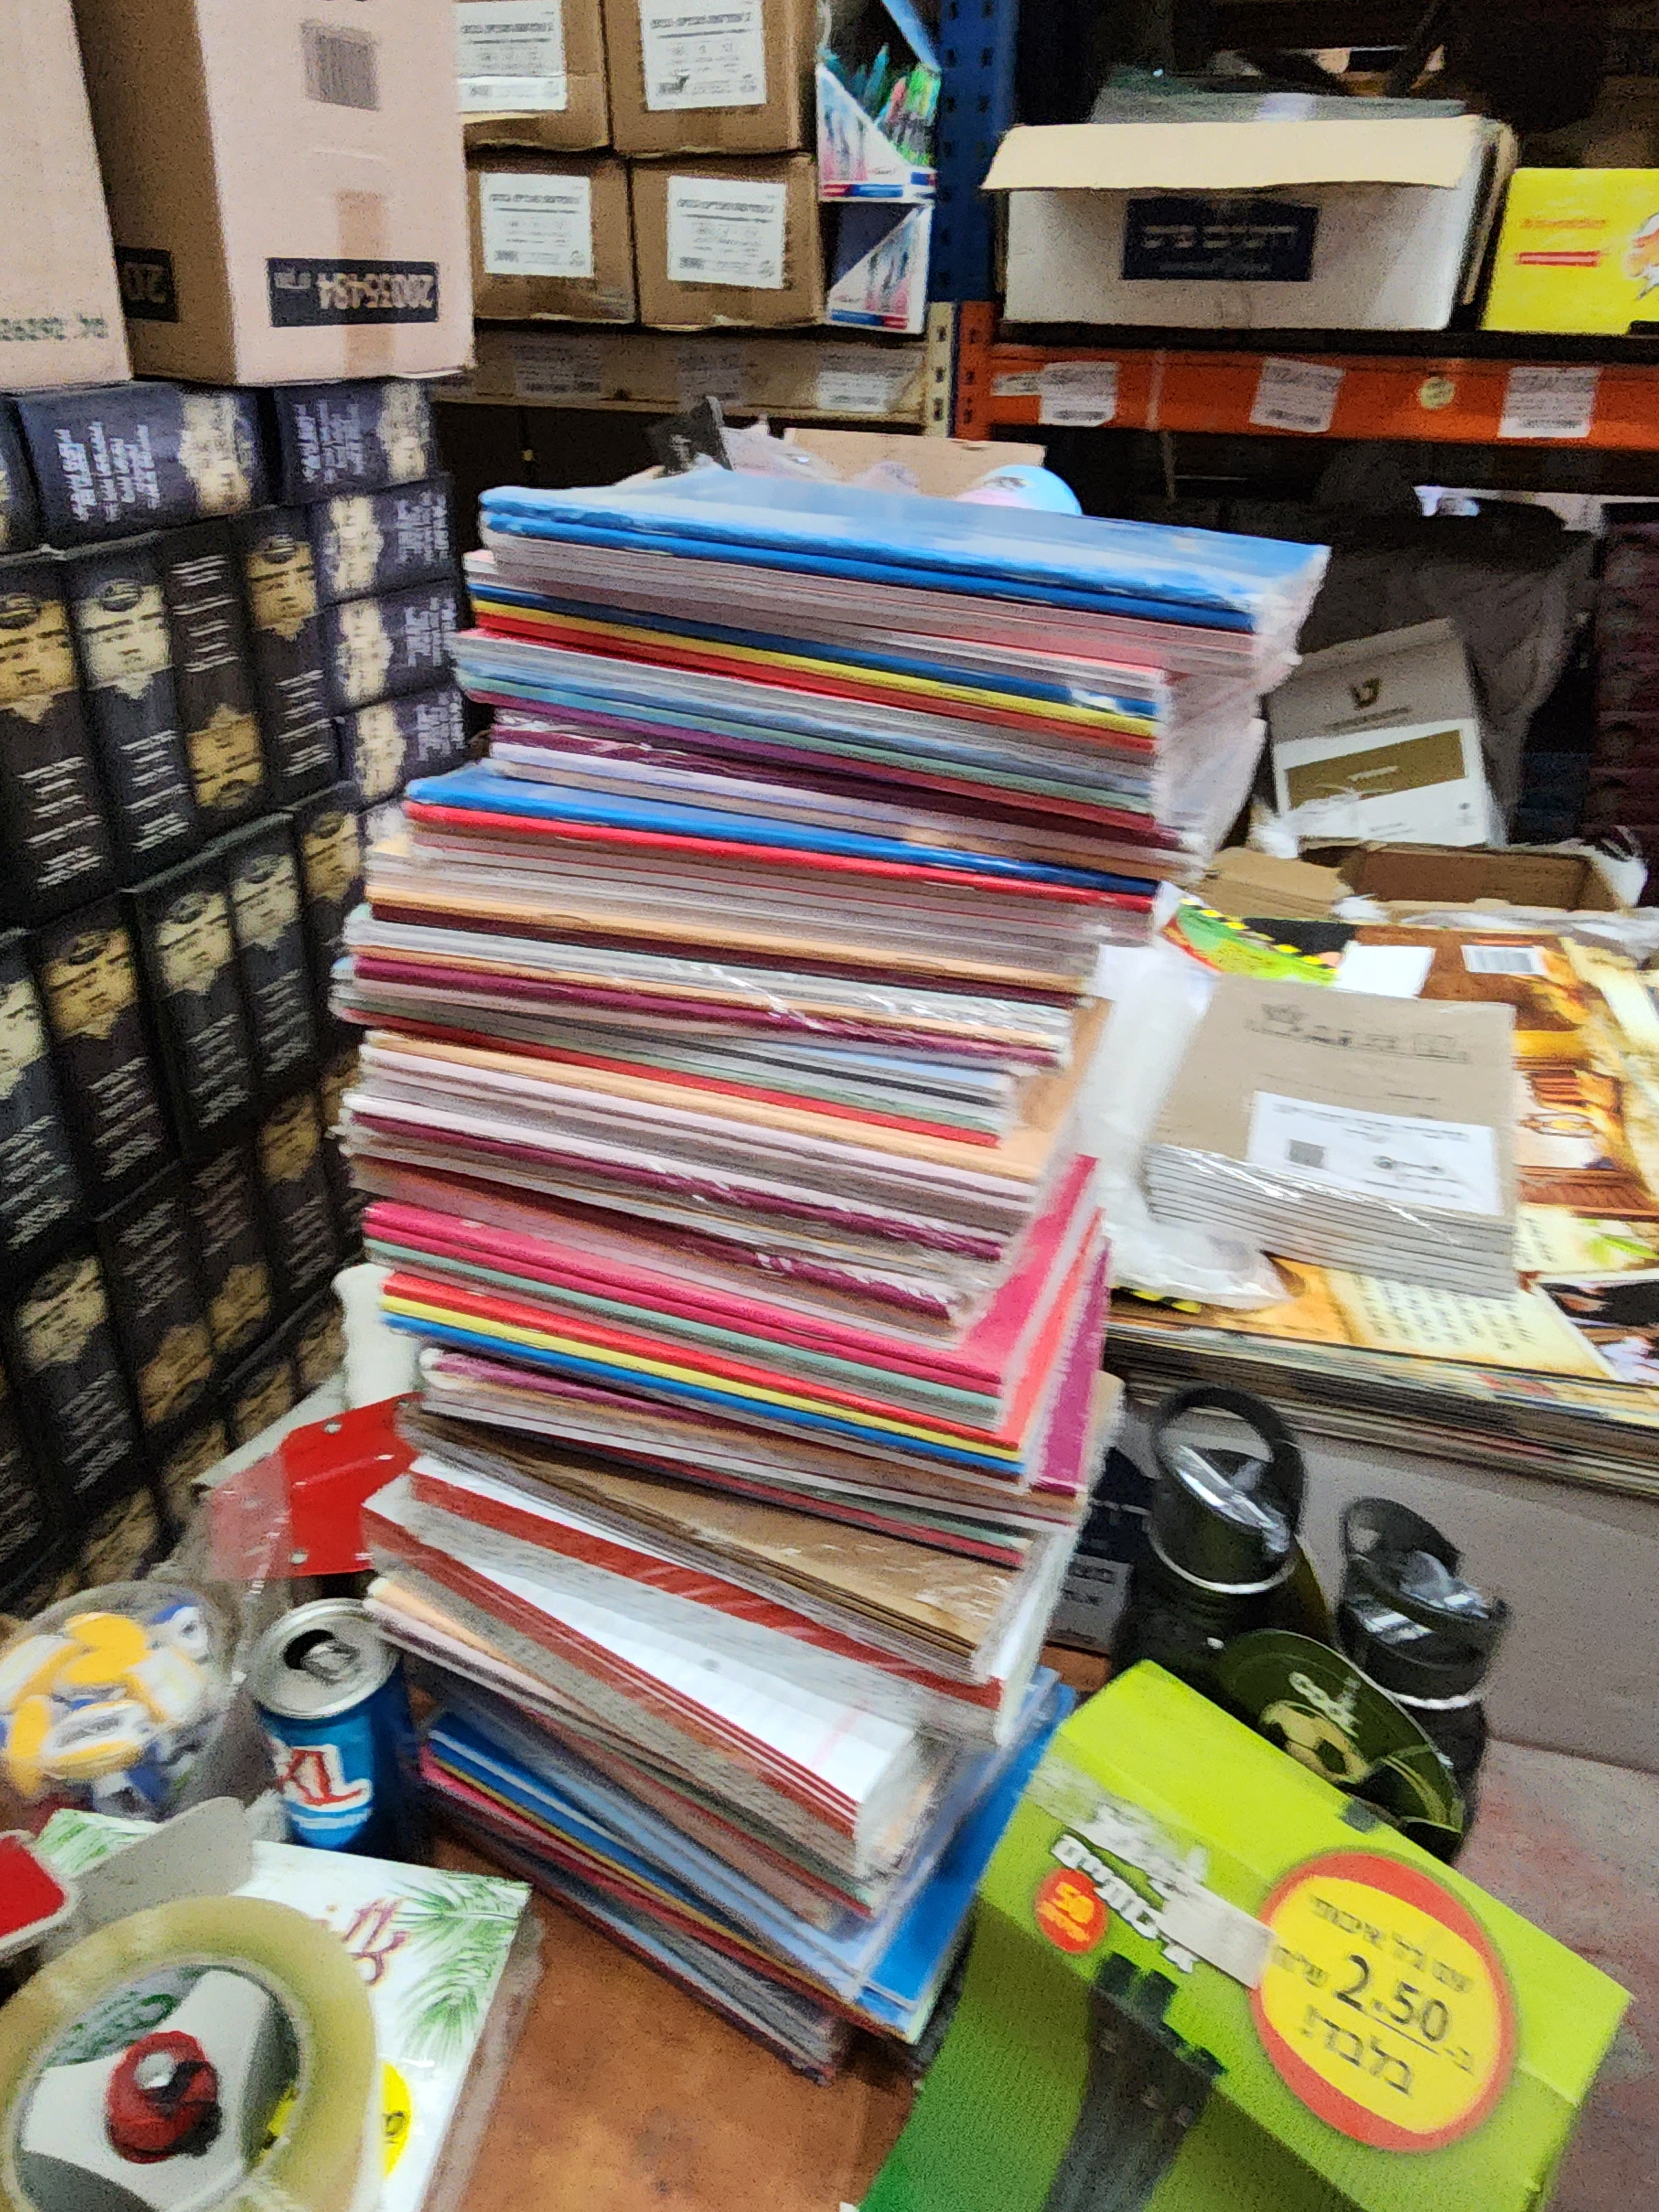other: (369, 397, 1185, 2088)
